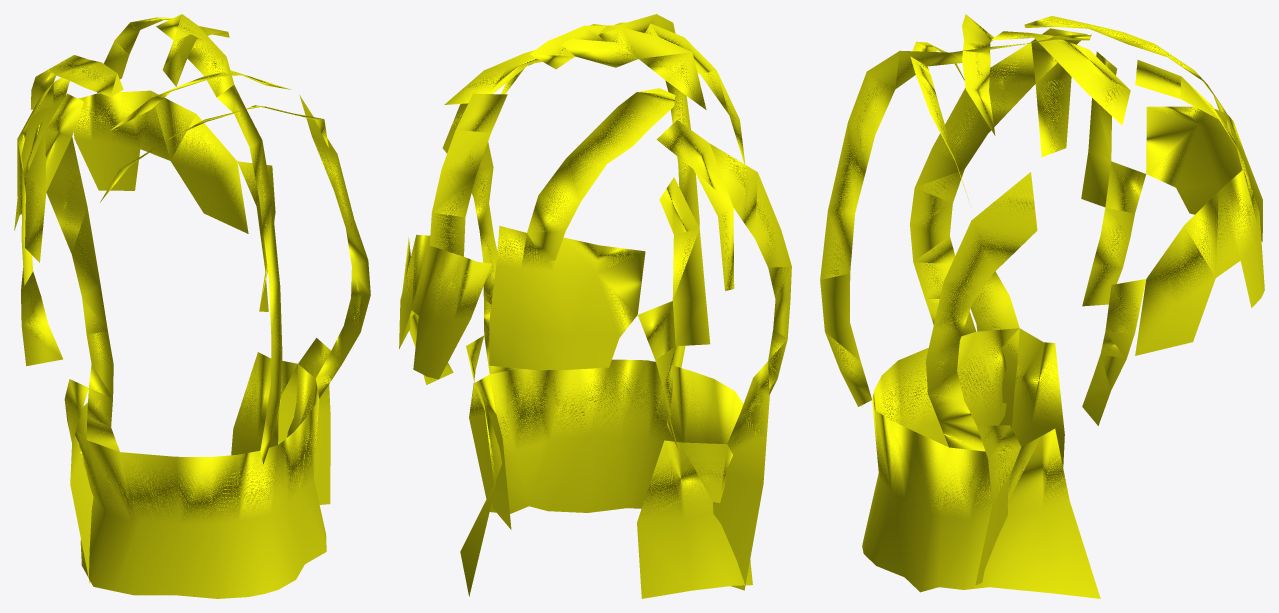
Rendered from rb-Business_Female_03.glb.
3 views of the same model, side by side, from view 1: azimuth 30°, elevation 25°; view 2: azimuth 150°, elevation 25°; view 3: azimuth 270°, elevation 25° (orthographic). The views are drawn at different scales.
Visible parts, largest first — view 1: hair_Business_Female_03; view 2: hair_Business_Female_03; view 3: hair_Business_Female_03.
Boxes of the visible parts, x1=… form: hair_Business_Female_03: x1=14, y1=14, x2=370, y2=598; hair_Business_Female_03: x1=399, y1=14, x2=791, y2=598; hair_Business_Female_03: x1=820, y1=14, x2=1264, y2=598.
Size of the model in its own units: 0.1635 by 0.2833 by 0.2141.
Materials: 1 (1 with a texture image).
